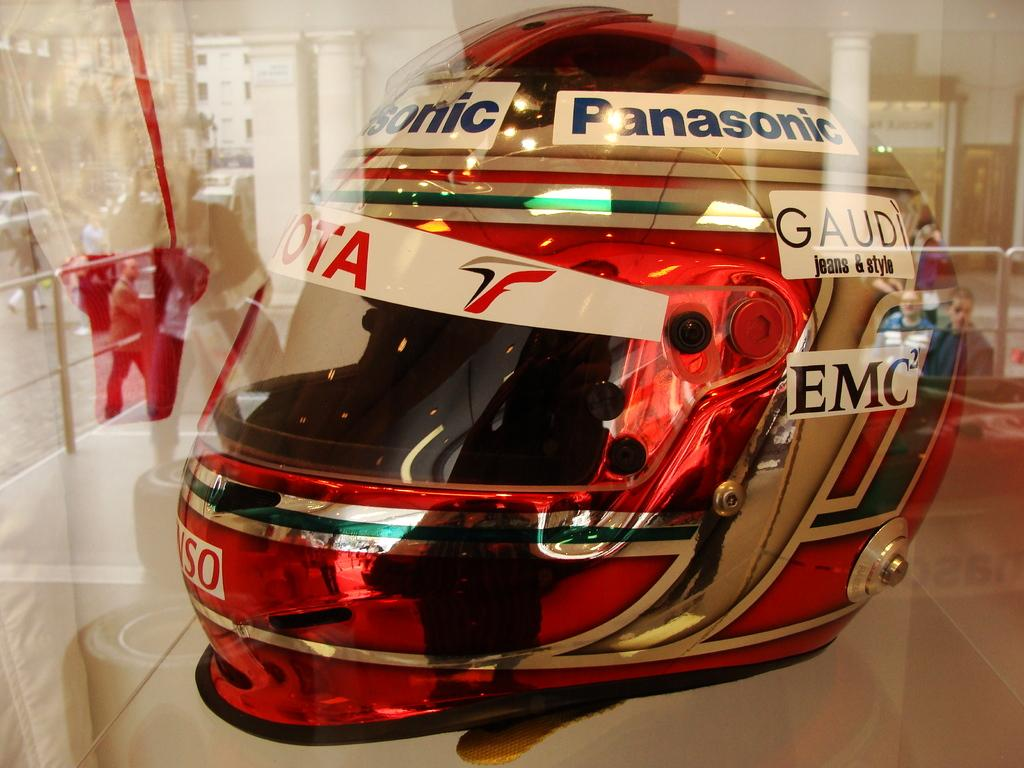helmet: (176, 5, 969, 747)
